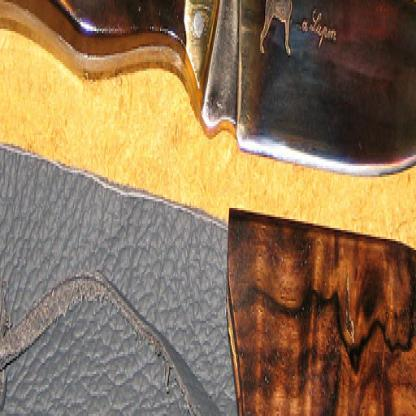knife: (0, 0, 415, 177)
